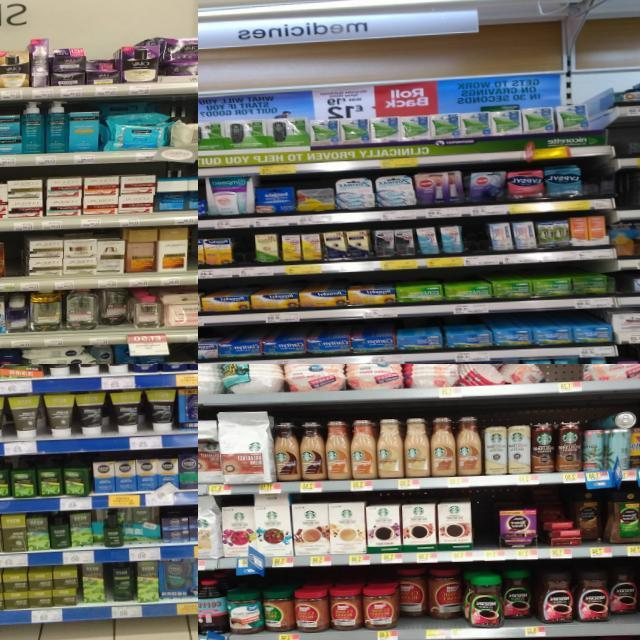Imprecise: (392, 566, 444, 630), (580, 484, 614, 554), (510, 572, 545, 634)
